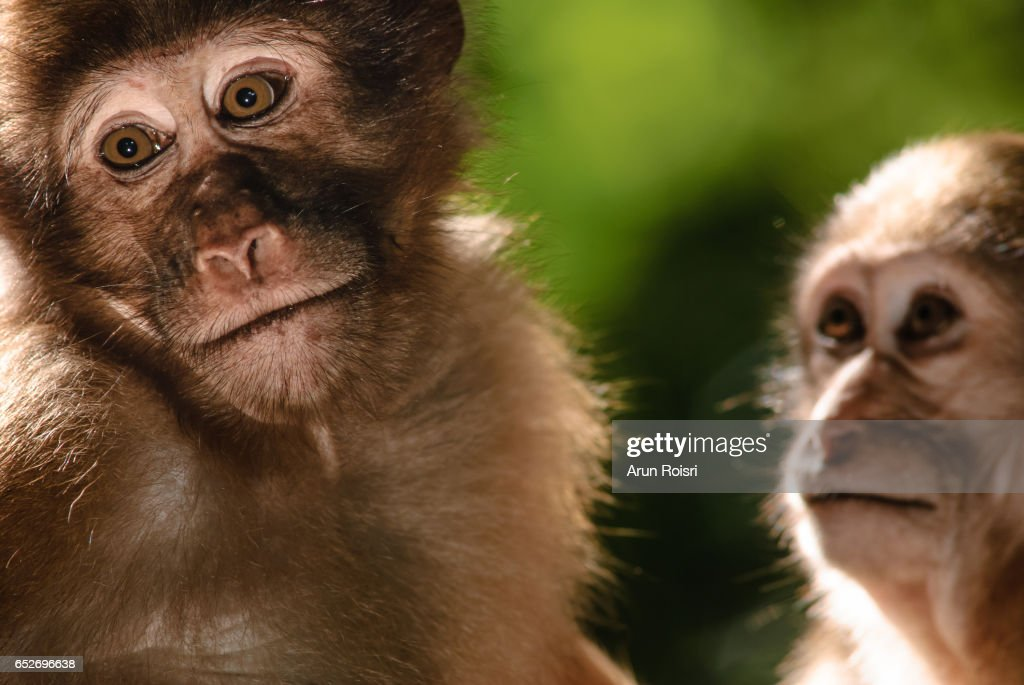monkey: (1, 1, 689, 685), (732, 105, 1024, 685)
